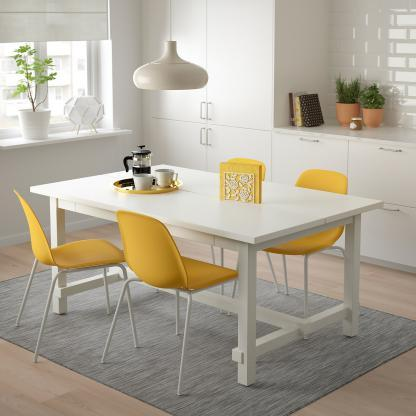chair: (97, 204, 239, 395), (12, 188, 127, 361), (261, 162, 359, 313)
light: (119, 2, 216, 95)
table: (24, 157, 393, 390)
